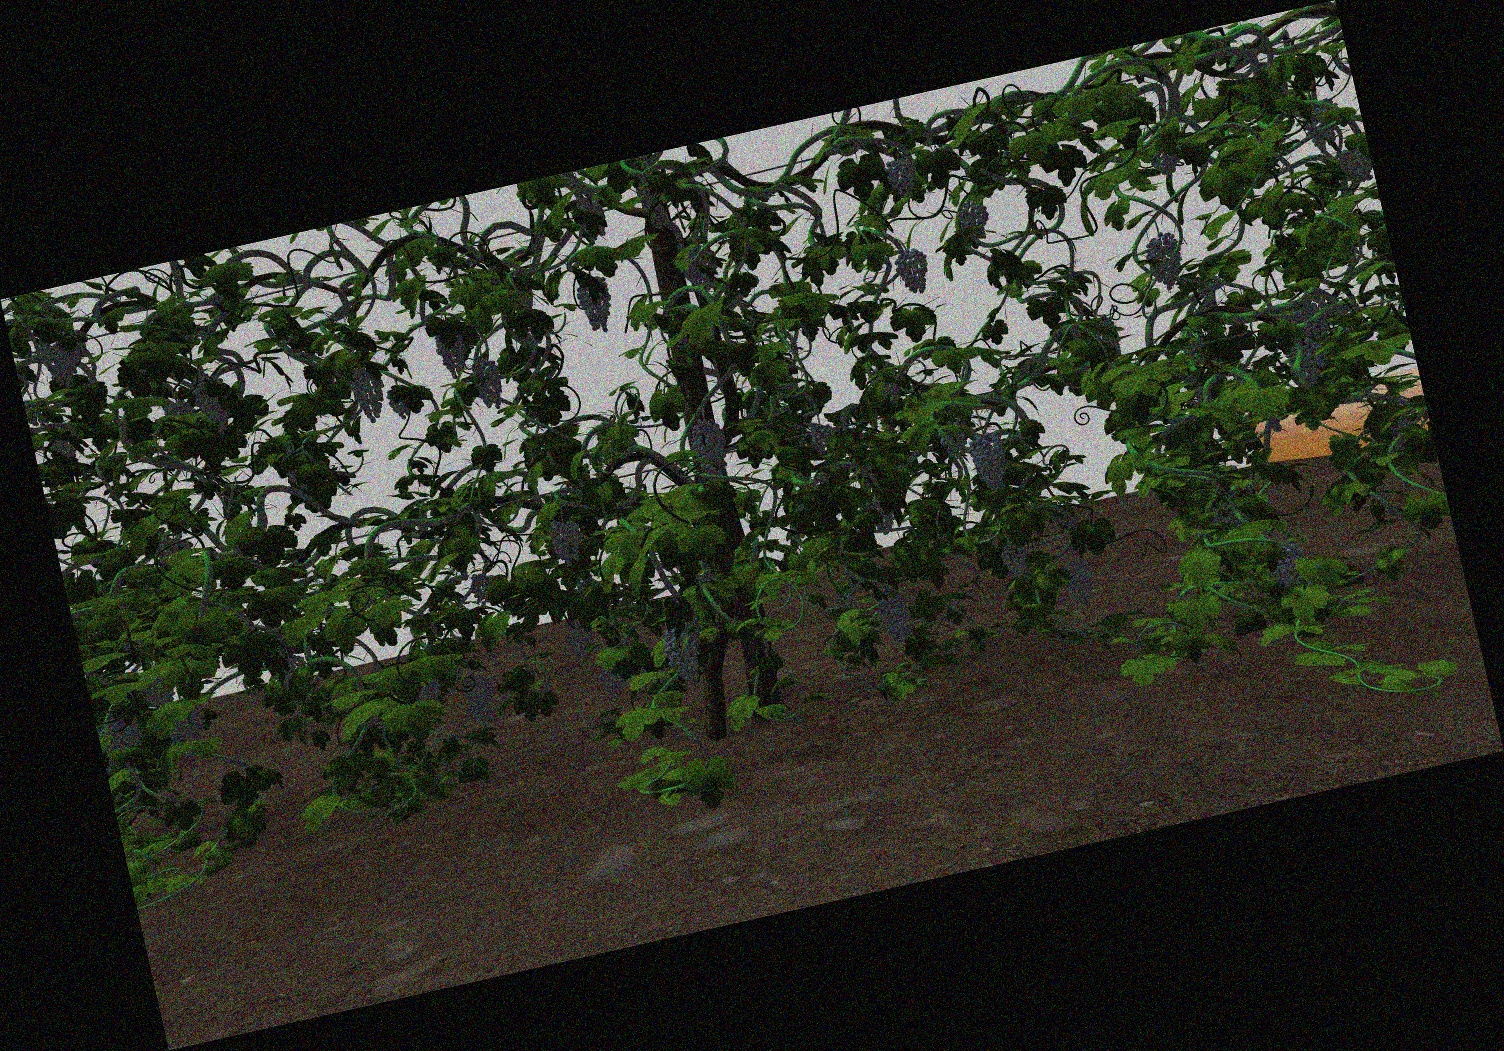grape: (42, 337, 89, 387), (665, 625, 702, 688), (1146, 233, 1185, 291), (577, 276, 614, 334), (693, 418, 727, 479), (971, 433, 1007, 491), (197, 374, 230, 435), (352, 366, 386, 420), (464, 675, 497, 731), (1271, 544, 1306, 589), (879, 597, 913, 644), (896, 248, 930, 294), (472, 358, 502, 410), (1289, 340, 1326, 383), (437, 329, 466, 379), (1065, 557, 1095, 607), (565, 618, 594, 665), (551, 521, 582, 565), (168, 708, 208, 743), (887, 155, 917, 198), (1002, 541, 1031, 581), (1295, 303, 1326, 338), (110, 719, 143, 751), (960, 203, 990, 238), (1339, 150, 1369, 183), (599, 667, 625, 704), (810, 423, 837, 454), (469, 572, 496, 601), (1152, 154, 1178, 177)
